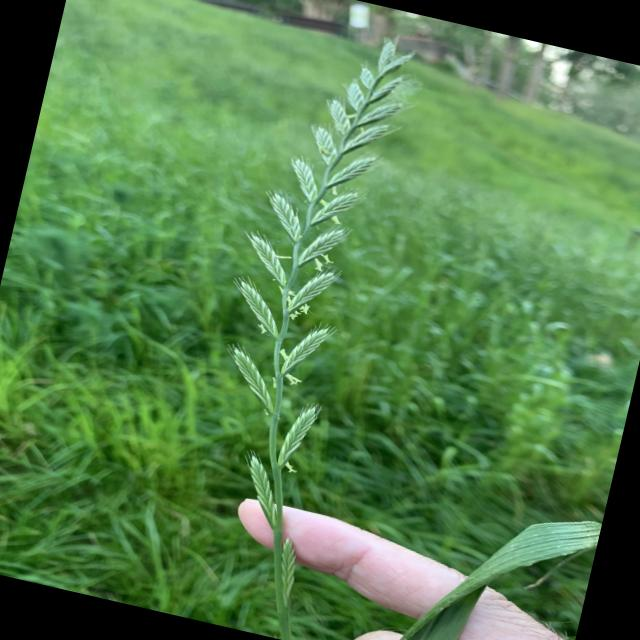Lolium: (153, 14, 434, 640)
